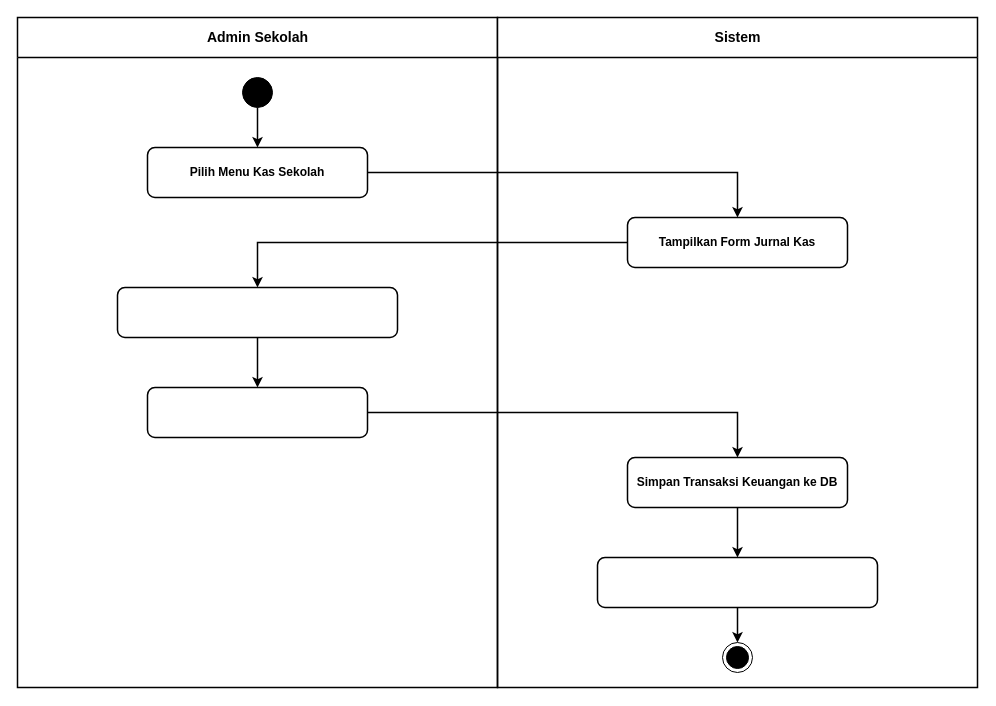
The diagram is 996 pixels wide and 706 high, and some of its shapes have lost their labels. Here are the shapes that lost their labels. From the top down, the centre of each, then its label:
At [257,312]: "Pilih Jenis (Masuk / Keluar) & Input Nominal".
At [257,412]: "Klik Simpan Kas".
At [737,582]: "Tampilkan Saldo Terupdate & Notifikasi Sukses".
